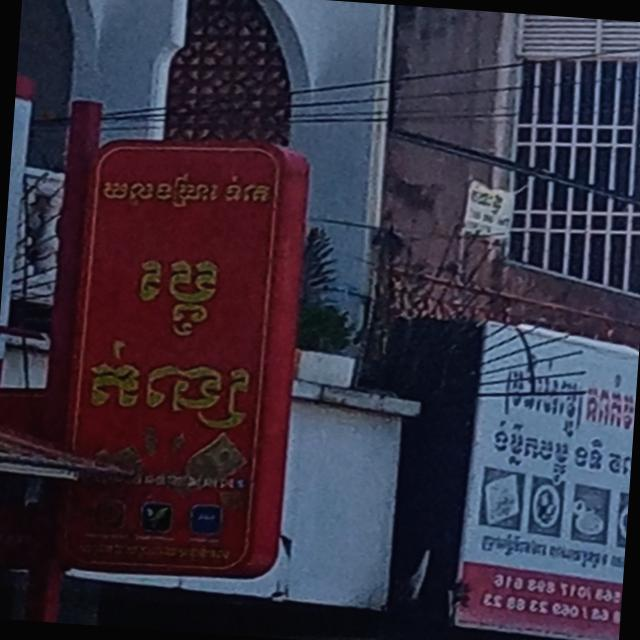1: (471, 408, 612, 500), (85, 163, 283, 216)
Yolov11kh: (73, 324, 274, 439), (126, 253, 231, 340)
